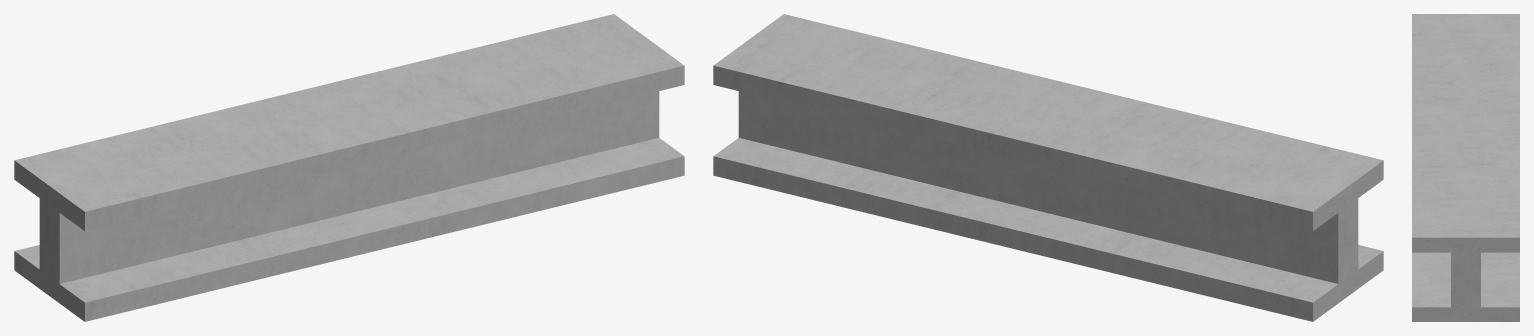
Rendered from Iron_Bar.fbx.
3 views of the same model, side by side, from view 1: azimuth 30°, elevation 25°; view 2: azimuth 150°, elevation 25°; view 3: azimuth 270°, elevation 25° (orthographic). The views are drawn at different scales.
Visible parts, largest first — view 1: Iron_Bar; view 2: Iron_Bar; view 3: Iron_Bar.
Part boxes in pixels (<box>): Iron_Bar: <box>14,14,684,321</box>; Iron_Bar: <box>713,14,1383,321</box>; Iron_Bar: <box>1412,14,1519,321</box>.
Bounding box in the file's own units: 0.988 × 0.1733 × 0.2011.
